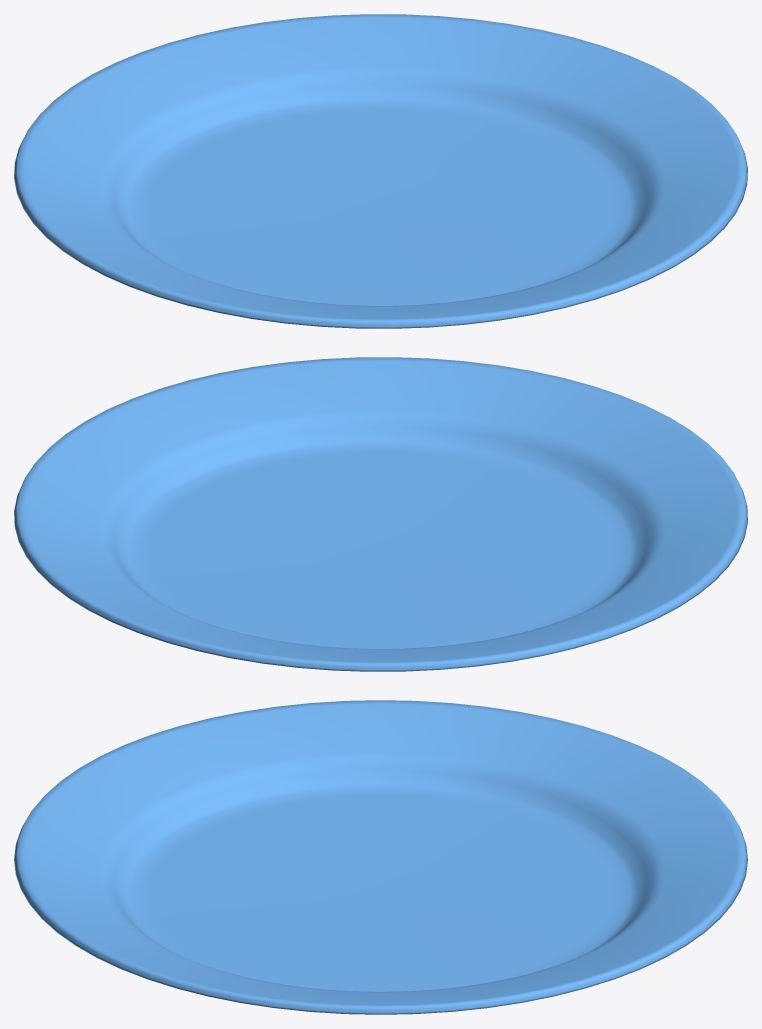
Rendered from Dish.glb.
3 views of the same model, one above another, from view 1: azimuth 30°, elevation 25°; view 2: azimuth 150°, elevation 25°; view 3: azimuth 270°, elevation 25° (orthographic).
Parts seen in each view (by area): view 1: SM_WhitePorcelainDish194; view 2: SM_WhitePorcelainDish194; view 3: SM_WhitePorcelainDish194.
Part boxes in pixels (<box>): SM_WhitePorcelainDish194: <box>14,14,747,328</box>; SM_WhitePorcelainDish194: <box>14,357,747,671</box>; SM_WhitePorcelainDish194: <box>14,700,747,1014</box>.
Bounding box in the file's own units: 0.5819 × 0.0515 × 0.5819.
